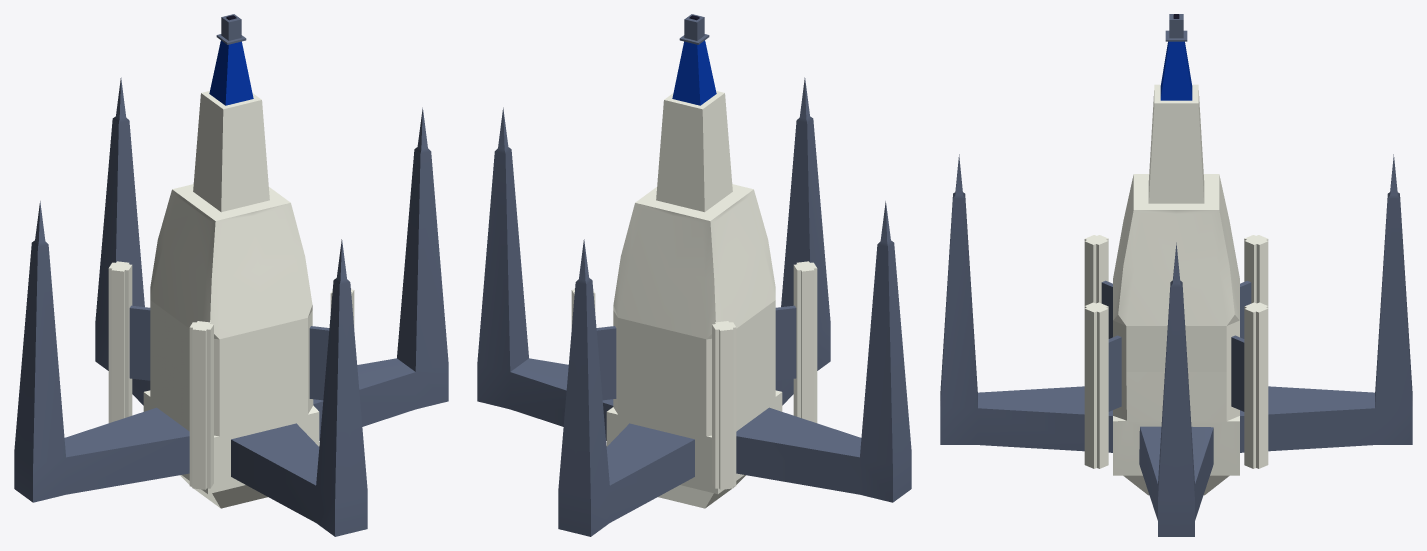
Rendered from Nave 1.fbx.
The picture shows the model from 3 angles, left to right: view 1: azimuth 30°, elevation 25°; view 2: azimuth 150°, elevation 25°; view 3: azimuth 270°, elevation 25°; orthographic projection.
Visible parts, largest first — view 1: Nave_1; view 2: Nave_1; view 3: Nave_1.
Boxes of the visible parts, x1=… form: Nave_1: x1=14, y1=14, x2=448, y2=536; Nave_1: x1=477, y1=14, x2=911, y2=536; Nave_1: x1=940, y1=14, x2=1412, y2=536.
Size of the model in its own units: 42.39 by 46.31 by 42.39.
